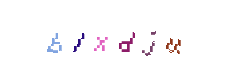B: (16, 0, 96, 80)
D: (75, 0, 155, 80)
J: (99, 0, 179, 80)
L: (38, 0, 118, 80)
U: (108, 0, 188, 80)
X: (64, 0, 144, 80)
